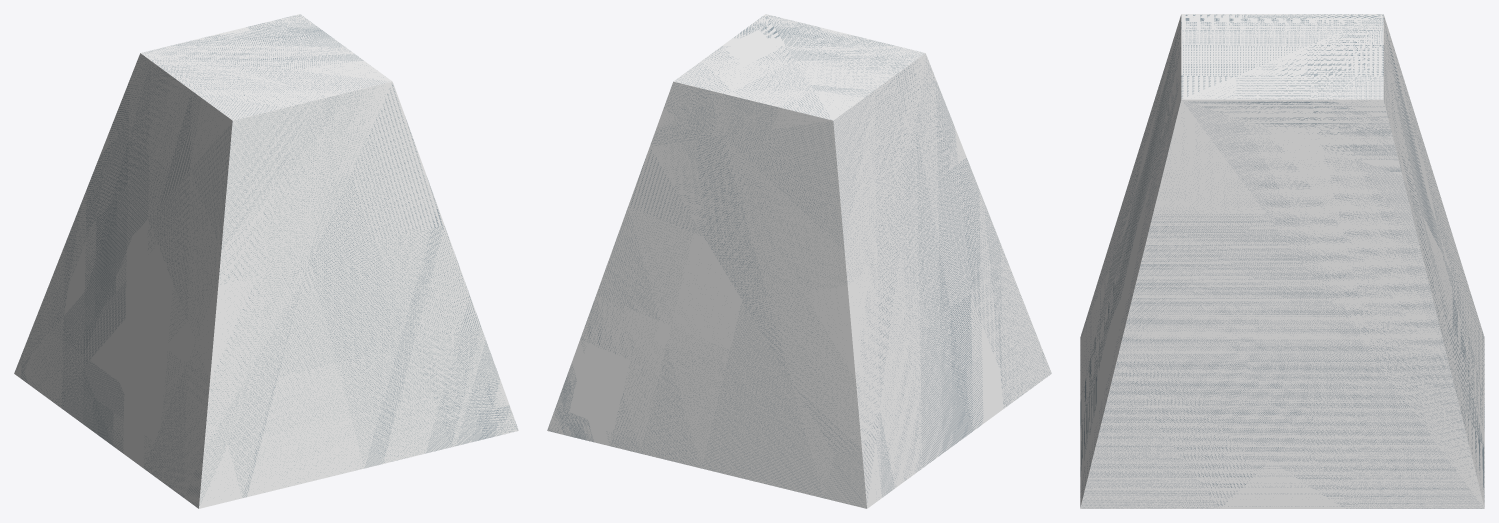
The picture shows the model from 3 angles, left to right: view 1: azimuth 30°, elevation 25°; view 2: azimuth 150°, elevation 25°; view 3: azimuth 270°, elevation 25°; orthographic projection. The views are drawn at different scales.
Parts seen in each view (by area): view 1: Model; view 2: Model; view 3: Model.
Boxes of the visible parts, x1,y1,x2,y2 form: Model: [14, 14, 518, 508]; Model: [547, 14, 1051, 508]; Model: [1080, 14, 1484, 508].
Size of the model in its own units: 4 by 4 by 4.
